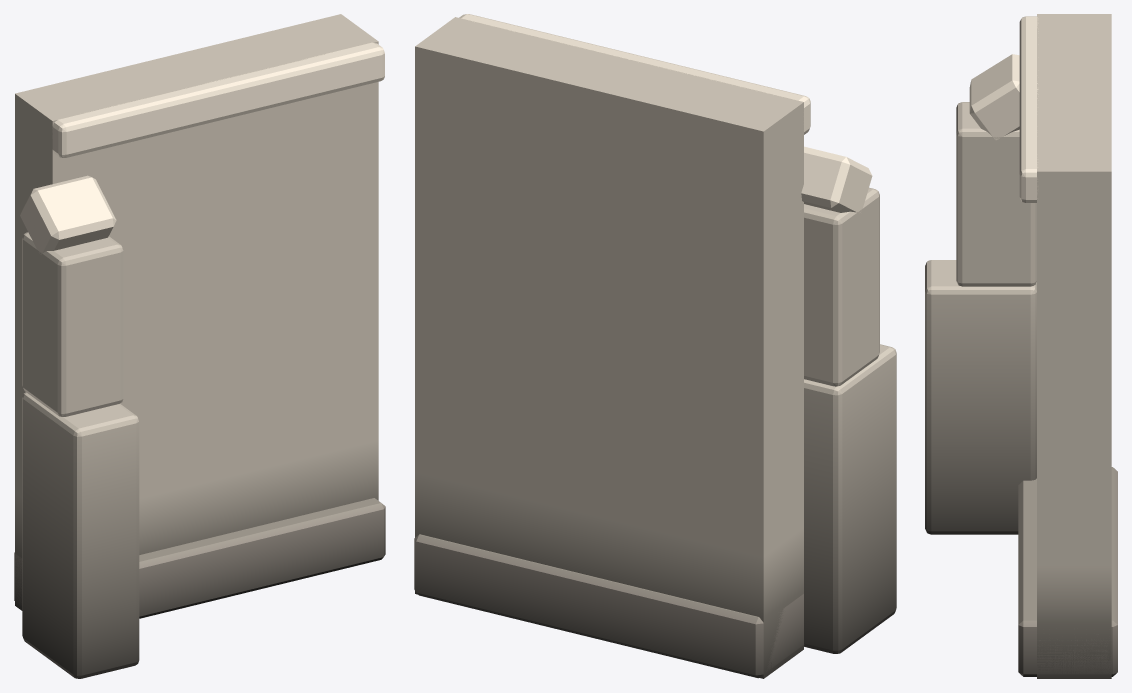
The model's file is SM_VK_Chapel_Wall_Plain.fbx.
The picture shows the model from 3 angles, left to right: view 1: azimuth 30°, elevation 25°; view 2: azimuth 150°, elevation 25°; view 3: azimuth 270°, elevation 25°; orthographic projection. The views are drawn at different scales.
Visible parts, largest first — view 1: SM_VK_Chapel_Wall_Plain.001; view 2: SM_VK_Chapel_Wall_Plain.001; view 3: SM_VK_Chapel_Wall_Plain.001.
Boxes of the visible parts, box(x1,y1,x2,y2) form: SM_VK_Chapel_Wall_Plain.001: box(14, 14, 385, 678); SM_VK_Chapel_Wall_Plain.001: box(414, 14, 896, 678); SM_VK_Chapel_Wall_Plain.001: box(925, 14, 1117, 678).
Bounding box in the file's own units: 3.3 × 4.5 × 1.55.
